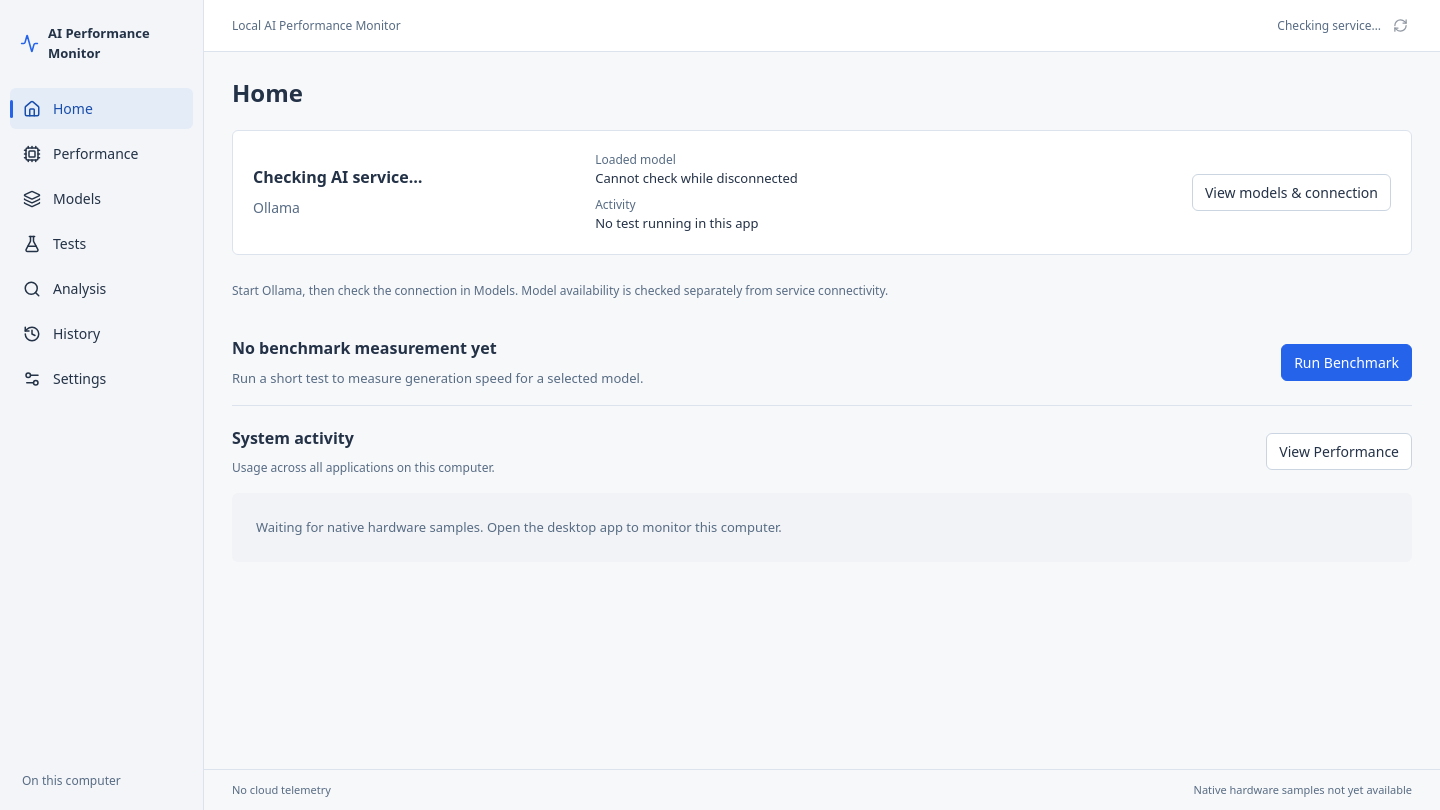
it: explains a connected backend with no installed model separately from disconnection
The image size is (1440, 810).
What coordinates should you click on to do the following:
click the button "Models"
I would click on:
 (102, 198)
Its box is [10,178,193,219].
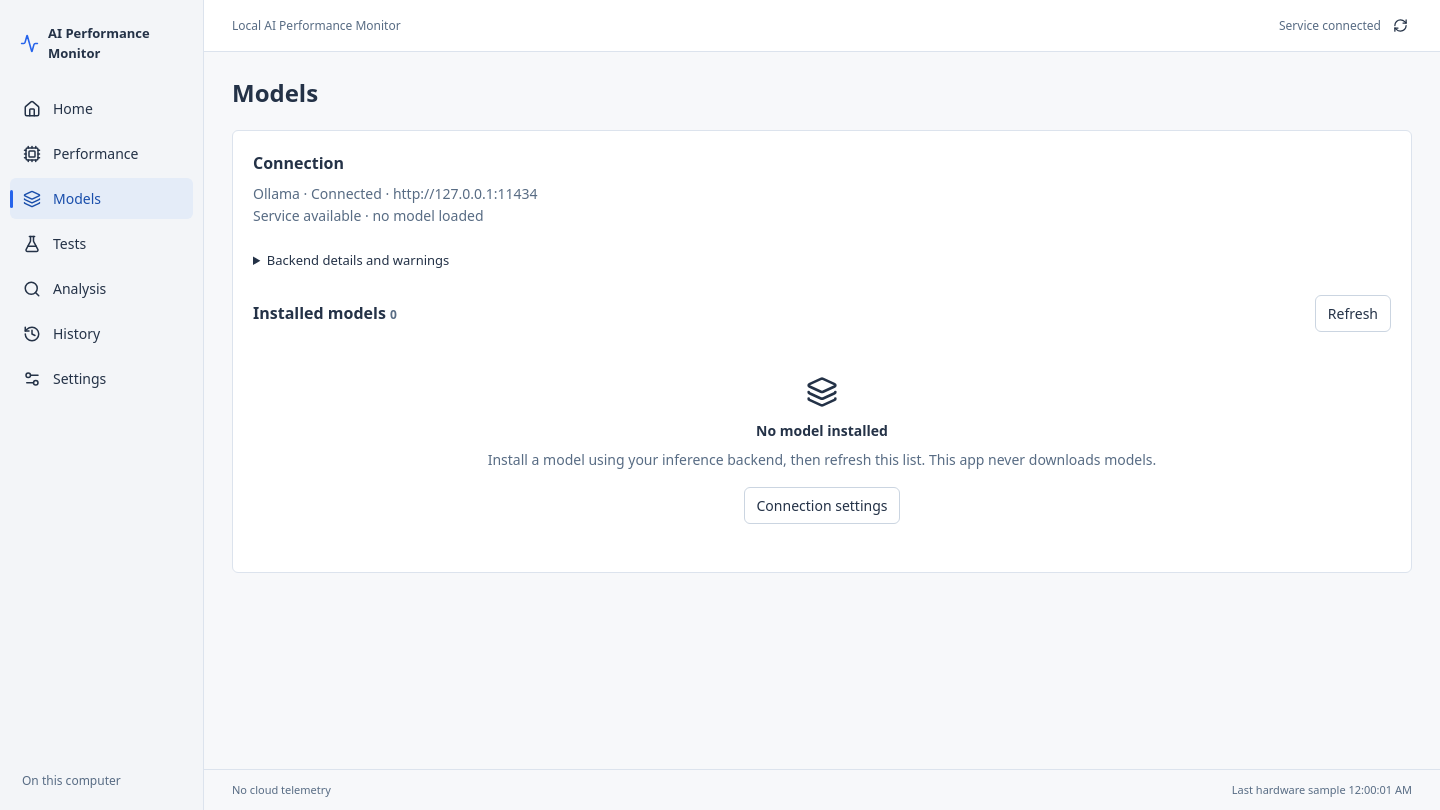
Expected: the heading "No model installed" is shown, [756,421,888,440]
Expected: the text "Service available · no model loaded" is shown, [253,206,484,225]
